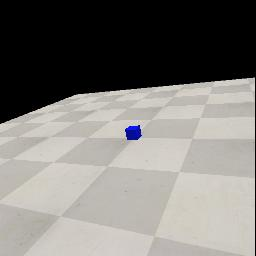box: (125, 124, 142, 140)
